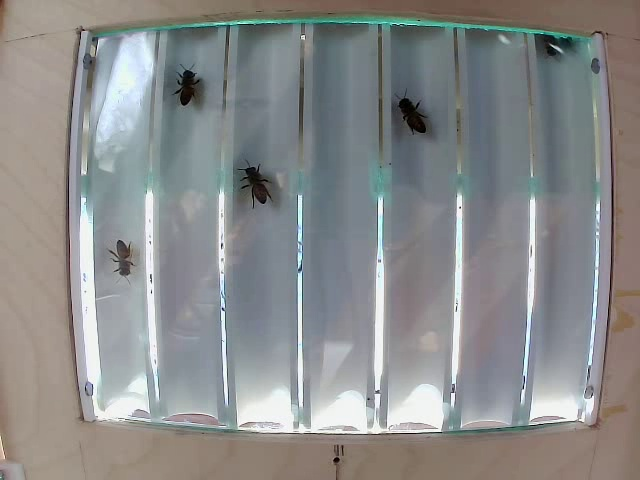bee: (171, 63, 219, 111), (252, 169, 288, 217), (396, 94, 433, 137), (105, 233, 137, 275), (538, 32, 570, 55)
